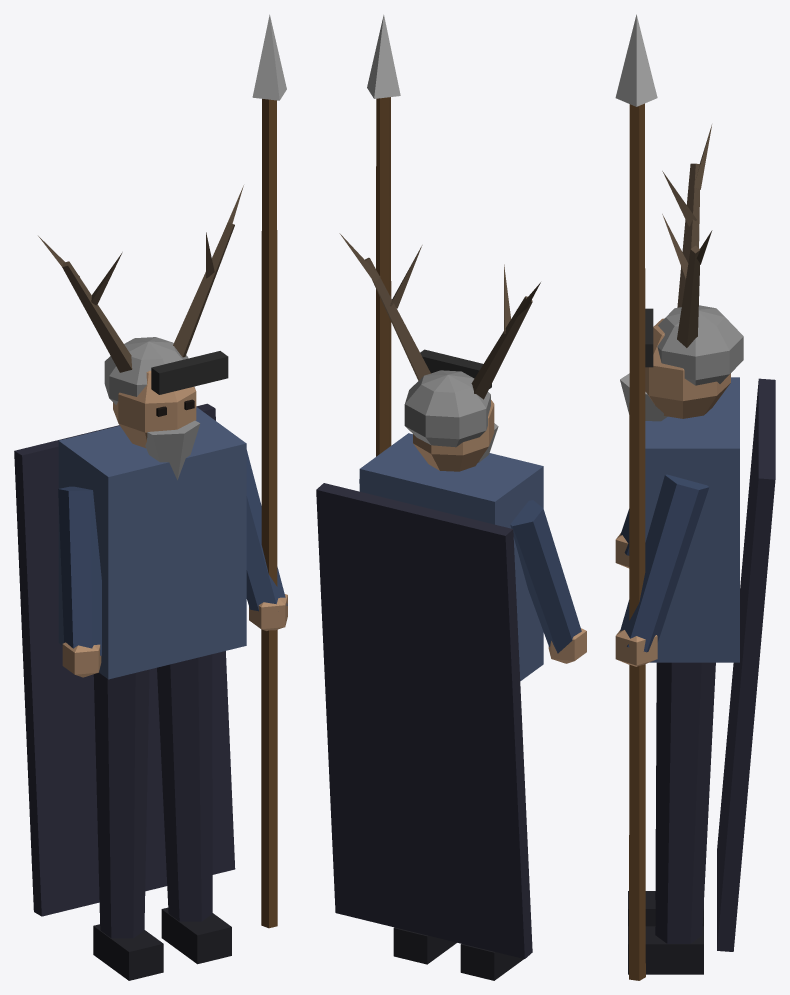
The model's file is wode.glb.
3 views of the same model, side by side, from view 1: azimuth 30°, elevation 25°; view 2: azimuth 150°, elevation 25°; view 3: azimuth 270°, elevation 25° (orthographic). The views are drawn at different scales.
Bounding box in the file's own units: 0.6348 × 2.57 × 0.3795.
Materials: 1 (1 with a texture image).
